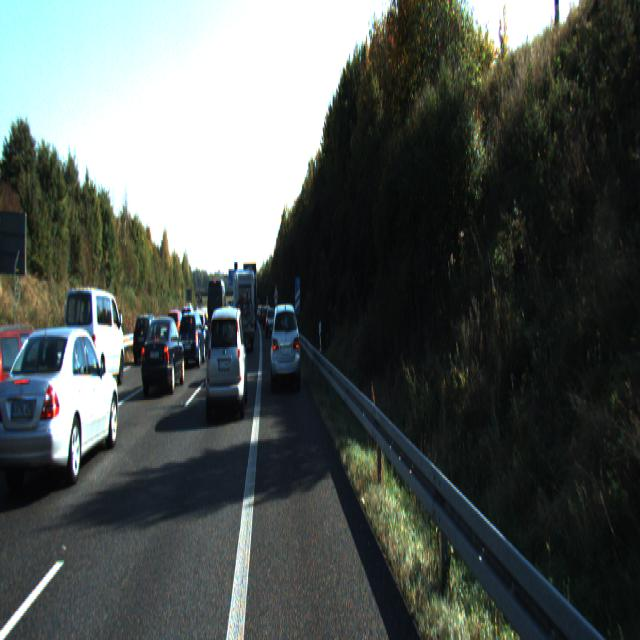Car: (0, 323, 121, 504), (0, 321, 68, 460), (61, 284, 126, 397), (204, 304, 248, 423), (140, 314, 185, 397), (270, 302, 301, 392), (233, 270, 255, 350), (177, 313, 206, 371), (133, 316, 163, 368), (208, 280, 228, 350), (244, 265, 257, 332), (266, 309, 276, 340)
